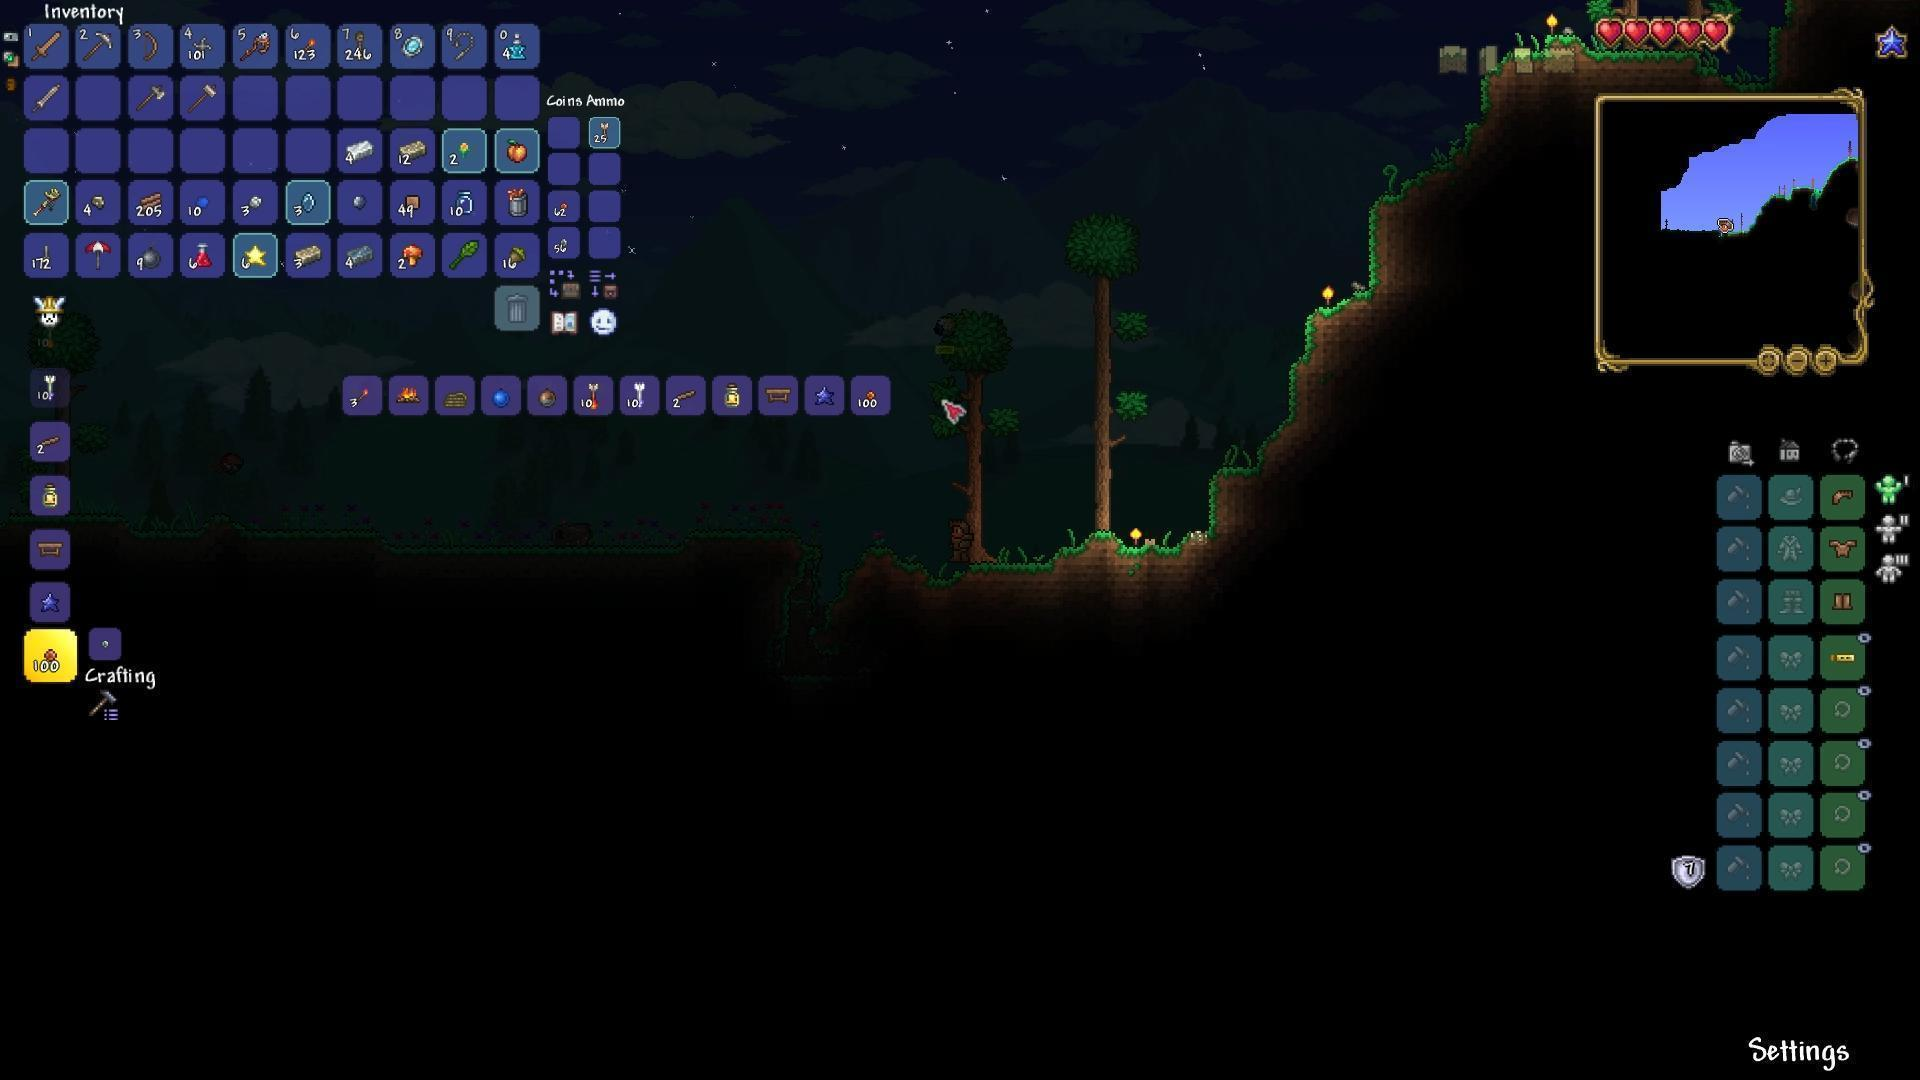arrow: (585, 378, 600, 409), (634, 381, 646, 406)
axe: (137, 83, 166, 112)
bar: (343, 240, 377, 270), (343, 137, 378, 166), (398, 136, 427, 164), (295, 244, 324, 266)
bomb: (137, 241, 164, 272)
breastplate: (1829, 537, 1858, 558)
gel: (195, 195, 214, 212)
helmet: (1830, 487, 1855, 509)
knife: (40, 243, 51, 265)
legs: (1832, 591, 1854, 613)
lens: (302, 186, 318, 214)
ore: (87, 189, 107, 211), (345, 191, 369, 208), (245, 194, 266, 212)
pickaxe: (80, 32, 116, 65)
recallP: (508, 32, 531, 61)
rope: (351, 26, 367, 61)
shuriken: (193, 34, 212, 58)
star: (243, 244, 270, 272)
sword: (29, 82, 63, 113), (30, 30, 61, 65)
workbench: (766, 385, 793, 405), (38, 541, 65, 556)
